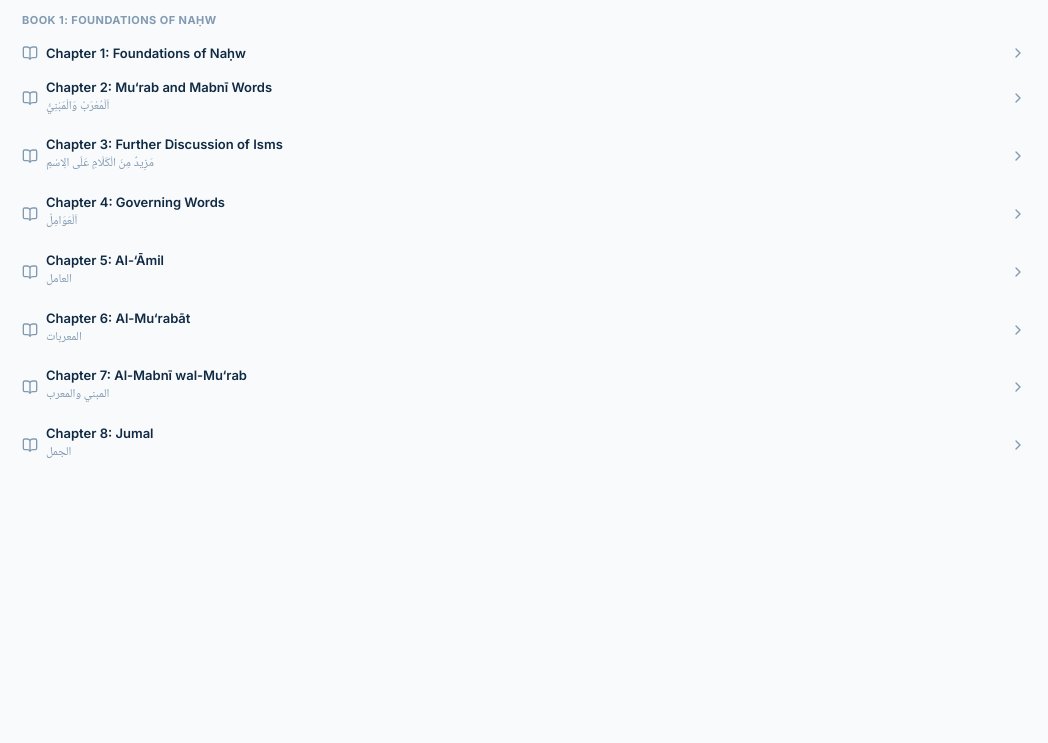
ChapterTree › expands a chapter to reveal its lessons, and collapses again
Check: the text "Al-Naḥw — Arabic Grammar" is not shown
Click the button "Chapter 1: Foundations of Naḥw".
click(73, 52)  # box [12, 36, 1036, 68]
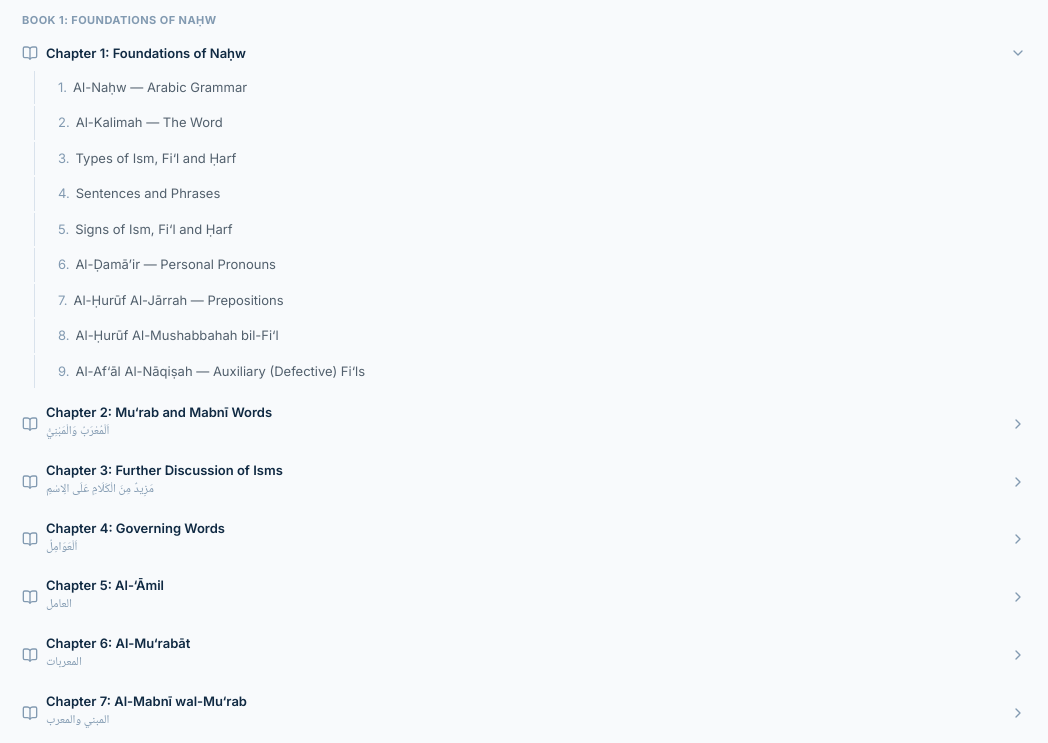
Check: the text "Al-Naḥw — Arabic Grammar" is shown, box [73, 78, 247, 94]
Click the button "Chapter 1: Foundations of Naḥw".
click(73, 52)  # box [12, 36, 1036, 68]
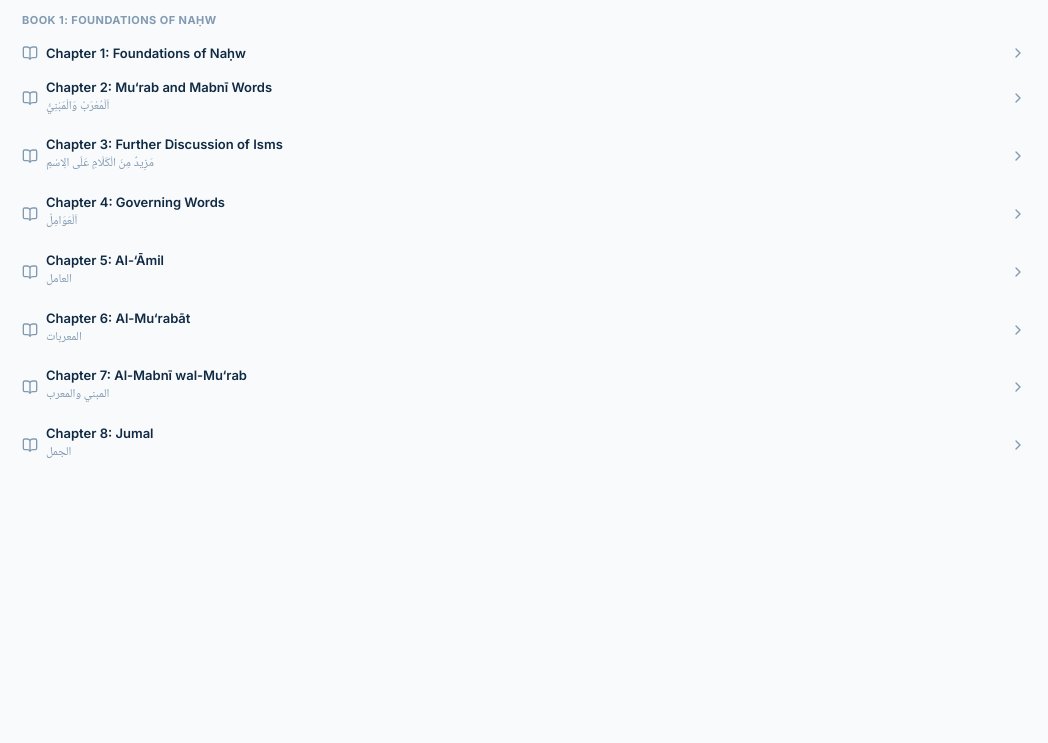
Check: the link "Al-Naḥw — Arabic Grammar" is gone
